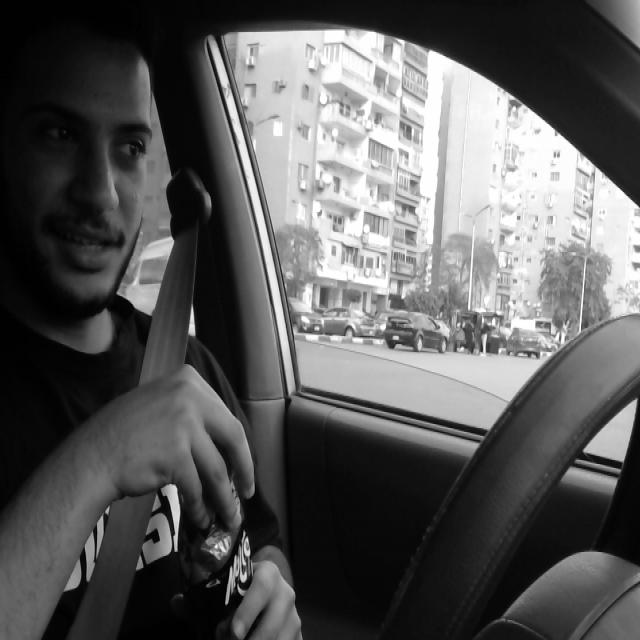eating: (172, 446, 262, 638)
